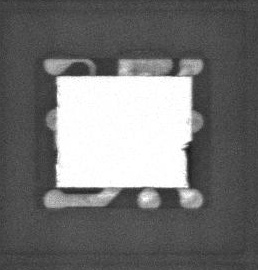DIE_BROKEN: (180, 139, 192, 188)
